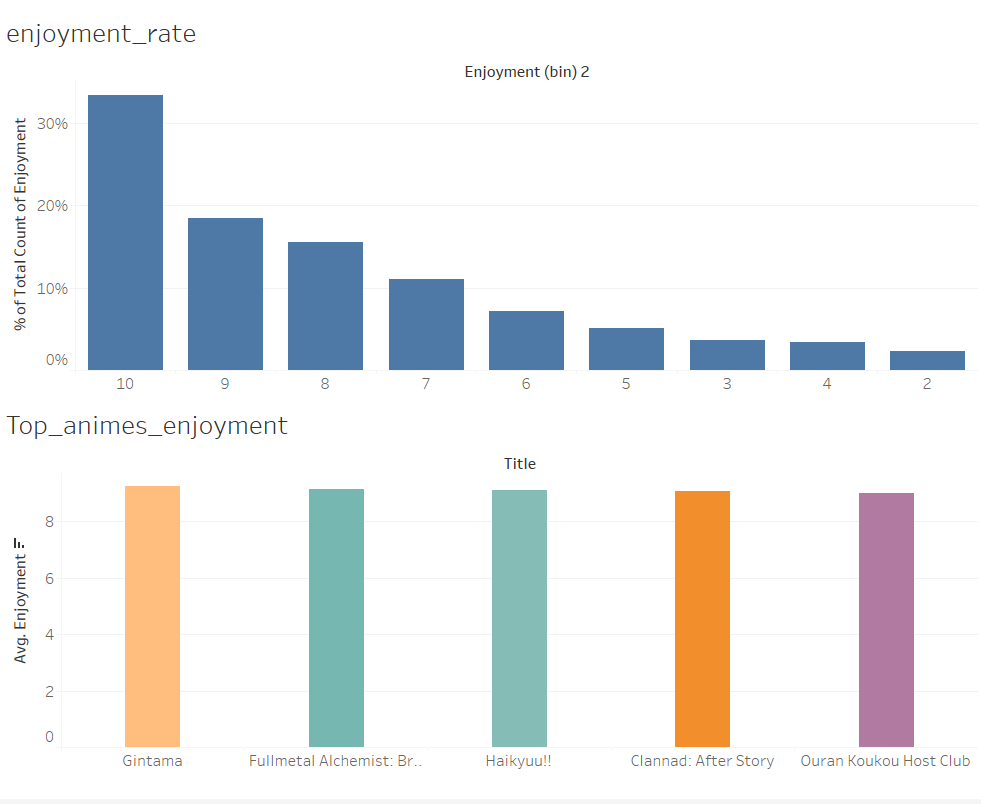

What the dashboard file says about the page in this screenshot:
{"tool":"tableau","page":{"name":"Enjoyment_dashboard","canvas":[1000,800],"ordinal":2},"visuals":[{"type":"worksheet","title":"enjoyment_rate","mark":"Automatic","rows":["Enjoyment"],"cols":["Enjoyment (bin) 2"],"box":[8,8,984,392]},{"type":"worksheet","title":"Top_animes_enjoyment","mark":"Automatic","rows":["Enjoyment"],"cols":["title"],"box":[8,400,984,392]}]}

Visuals, with their boxes in screenshot pixels (x1, y1, x2, y2), scaled from the page's 1000x800 canvas onto the 981x804 screenshot:
"enjoyment_rate" worksheet: bbox=[8, 8, 973, 402]
"Top_animes_enjoyment" worksheet: bbox=[8, 402, 973, 796]
